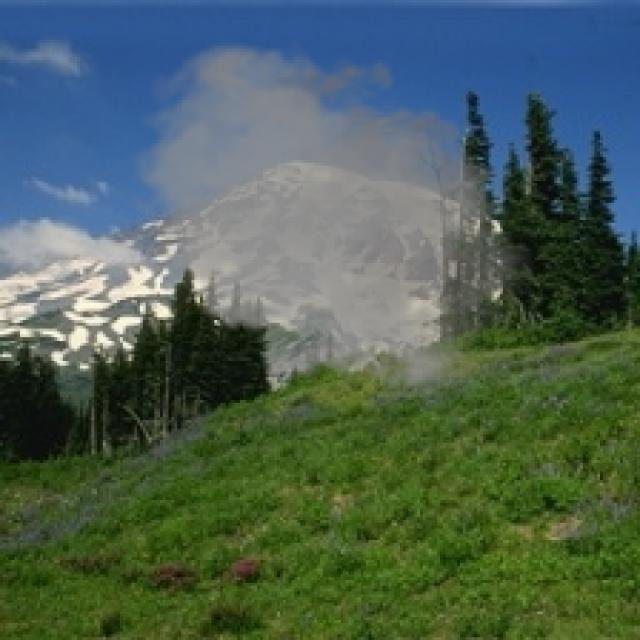smoke: (123, 37, 548, 403)
